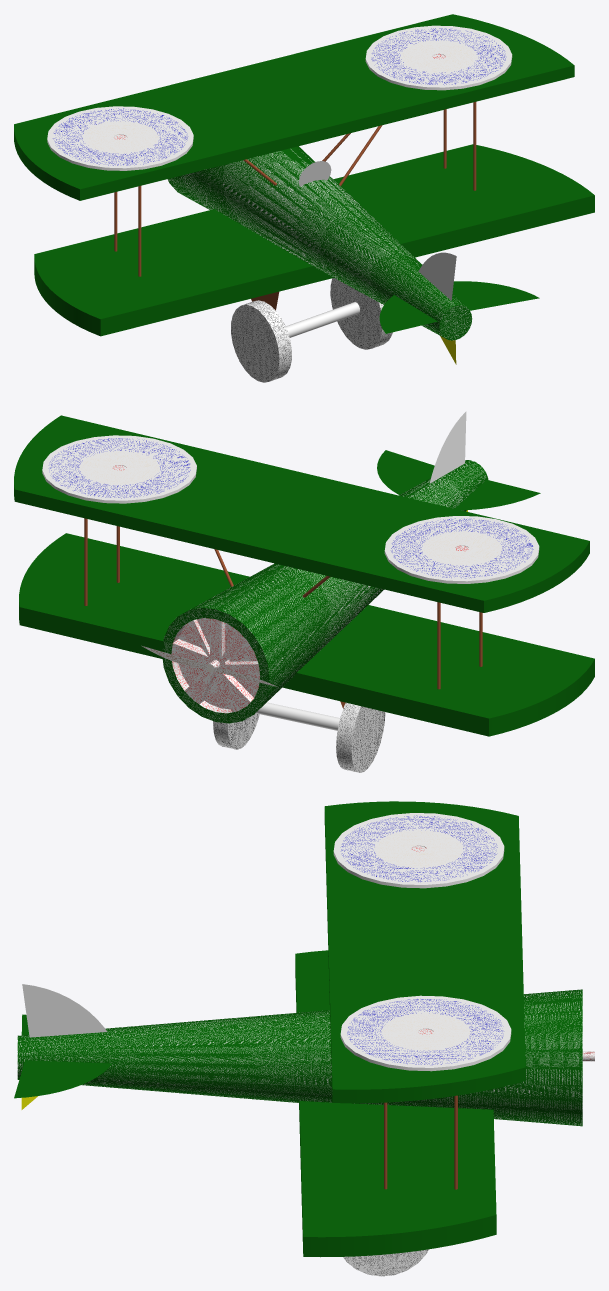
The picture shows the model from 3 angles, top to bottom: view 1: azimuth 30°, elevation 25°; view 2: azimuth 150°, elevation 25°; view 3: azimuth 270°, elevation 25°; orthographic projection. The views are drawn at different scales.
Parts seen in each view (by area): view 1: mesh3_mesh3-geometry, mesh1_mesh1-geometry, mesh37_mesh37-geometry, mesh36_mesh36-geometry, mesh35_mesh35-geometry, mesh39_mesh39-geometry, mesh5_mesh5-geometry, mesh6_mesh6-geometry, mesh7_mesh7-geometry, mesh38_mesh38-geometry; view 2: mesh3_mesh3-geometry, mesh1_mesh1-geometry, mesh37_mesh37-geometry, mesh36_mesh36-geometry, mesh35_mesh35-geometry, mesh39_mesh39-geometry, mesh5_mesh5-geometry, mesh6_mesh6-geometry, mesh7_mesh7-geometry; view 3: mesh1_mesh1-geometry, mesh37_mesh37-geometry, mesh3_mesh3-geometry, mesh35_mesh35-geometry, mesh36_mesh36-geometry, mesh7_mesh7-geometry, mesh5_mesh5-geometry, mesh39_mesh39-geometry.
Part boxes in pixels (x1,y1,x2,y2): mesh3_mesh3-geometry: [34, 144, 594, 336]; mesh1_mesh1-geometry: [14, 14, 574, 200]; mesh37_mesh37-geometry: [167, 146, 472, 340]; mesh36_mesh36-geometry: [365, 25, 512, 90]; mesh35_mesh35-geometry: [47, 106, 193, 170]; mesh39_mesh39-geometry: [231, 278, 392, 382]; mesh5_mesh5-geometry: [452, 281, 539, 310]; mesh6_mesh6-geometry: [379, 295, 437, 333]; mesh7_mesh7-geometry: [418, 252, 456, 300]; mesh38_mesh38-geometry: [298, 161, 331, 186]; mesh3_mesh3-geometry: [19, 533, 594, 736]; mesh1_mesh1-geometry: [14, 415, 589, 612]; mesh37_mesh37-geometry: [141, 460, 488, 723]; mesh36_mesh36-geometry: [42, 435, 196, 503]; mesh35_mesh35-geometry: [384, 516, 539, 583]; mesh39_mesh39-geometry: [213, 702, 385, 772]; mesh5_mesh5-geometry: [377, 450, 434, 494]; mesh6_mesh6-geometry: [454, 480, 540, 510]; mesh7_mesh7-geometry: [429, 411, 466, 483]; mesh1_mesh1-geometry: [324, 801, 525, 1103]; mesh37_mesh37-geometry: [17, 989, 594, 1126]; mesh3_mesh3-geometry: [295, 950, 496, 1257]; mesh35_mesh35-geometry: [333, 813, 504, 888]; mesh36_mesh36-geometry: [340, 995, 511, 1071]; mesh7_mesh7-geometry: [22, 984, 107, 1037]; mesh5_mesh5-geometry: [14, 1060, 111, 1098]; mesh39_mesh39-geometry: [343, 1249, 428, 1276].
Size of the model in its own units: 0.7207 by 0.3395 by 0.6045.
